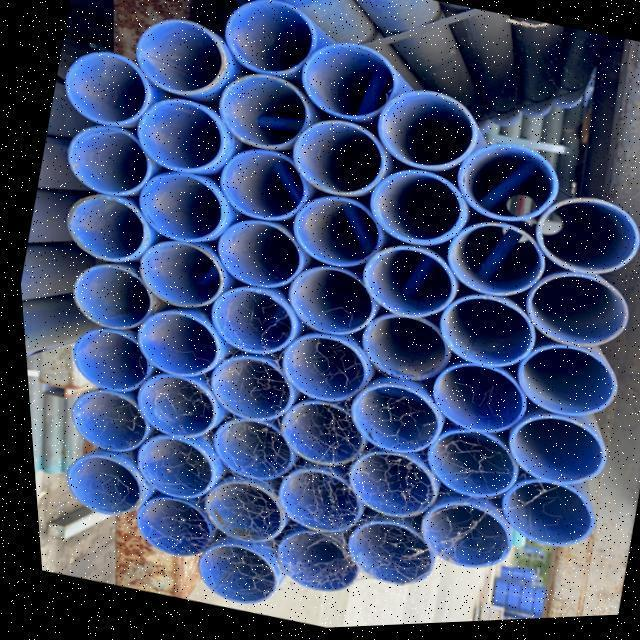pipe: (452, 137, 554, 226), (518, 264, 620, 352), (300, 31, 396, 124), (373, 88, 474, 175), (528, 199, 634, 281), (508, 345, 608, 421), (491, 471, 584, 552), (431, 297, 530, 373), (287, 120, 381, 200), (423, 358, 518, 437), (366, 169, 459, 247), (341, 379, 431, 459), (221, 1, 314, 78), (496, 416, 597, 486), (442, 224, 538, 297), (215, 74, 305, 151), (359, 245, 451, 320), (212, 145, 301, 221), (289, 194, 377, 270), (201, 279, 288, 355), (355, 314, 444, 388), (132, 95, 221, 169), (134, 19, 222, 93), (62, 50, 148, 125), (283, 266, 370, 340), (335, 446, 424, 517), (411, 501, 502, 570), (416, 428, 505, 498), (209, 217, 297, 287), (133, 168, 217, 241), (268, 399, 358, 467), (339, 520, 427, 588), (275, 330, 358, 402), (131, 309, 216, 379), (62, 122, 142, 195), (132, 235, 216, 304), (67, 263, 147, 335), (63, 191, 143, 262), (130, 372, 213, 440), (266, 468, 351, 533), (198, 353, 280, 420), (126, 429, 206, 497), (202, 416, 283, 481), (184, 542, 270, 603), (64, 385, 140, 454), (196, 481, 278, 544), (67, 325, 146, 390), (266, 532, 347, 594), (124, 492, 204, 553), (54, 450, 131, 513)
